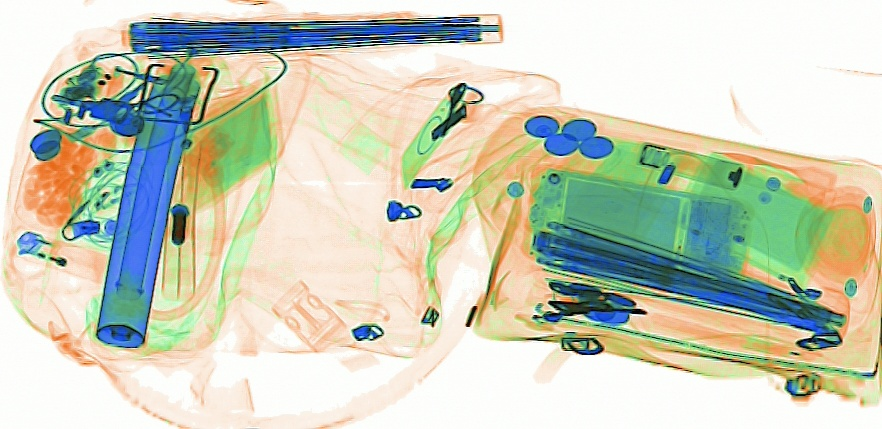lighter: (13, 230, 116, 284)
